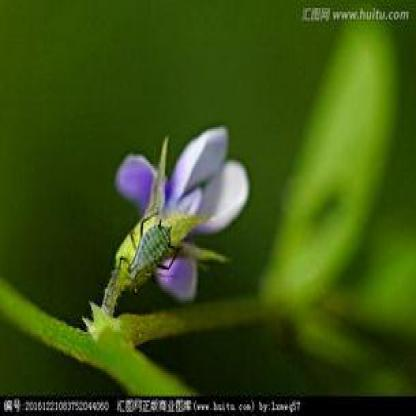aphid: (106, 206, 184, 306)
